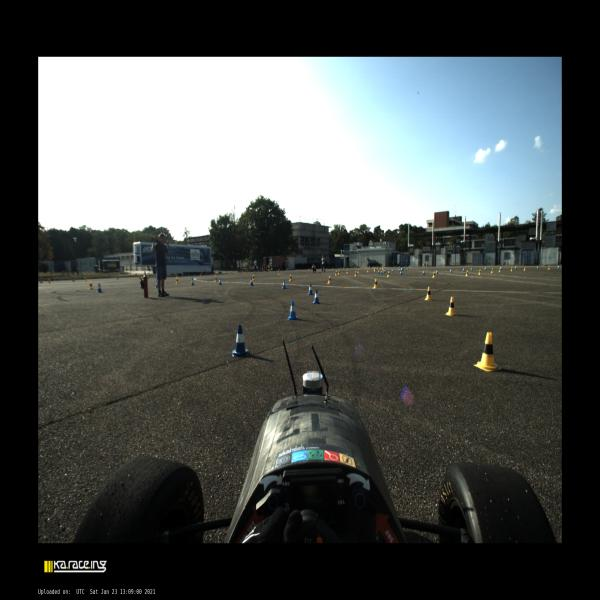blue_cone: (232, 324, 248, 357), (287, 299, 299, 320), (312, 289, 321, 304), (308, 283, 314, 295), (282, 279, 287, 289), (97, 284, 103, 292), (250, 278, 254, 286), (191, 278, 195, 286), (218, 278, 222, 285), (155, 279, 158, 288), (422, 269, 425, 275), (380, 270, 383, 274), (462, 268, 465, 272), (470, 267, 473, 271), (484, 266, 487, 270), (400, 270, 402, 275), (450, 268, 452, 273), (378, 269, 380, 274), (401, 266, 403, 271), (436, 269, 438, 274), (558, 264, 560, 269), (392, 268, 394, 272), (40, 279, 42, 283), (73, 278, 75, 282), (117, 276, 119, 280), (286, 268, 288, 272), (384, 269, 386, 273), (398, 268, 400, 272), (407, 266, 409, 270), (514, 266, 516, 270), (536, 265, 538, 269), (226, 271, 228, 274), (326, 267, 328, 270), (299, 268, 301, 271), (184, 274, 186, 276), (205, 272, 206, 276), (240, 270, 241, 274), (340, 267, 342, 269), (394, 266, 396, 268), (501, 266, 502, 270), (276, 269, 277, 272), (404, 266, 405, 269), (354, 267, 355, 269), (387, 266, 388, 268)
large_orange_cone: (278, 268, 280, 272), (268, 268, 269, 272)
yellow_cone: (474, 332, 502, 372), (445, 297, 457, 316), (425, 286, 432, 300), (373, 279, 378, 288), (89, 282, 94, 290), (327, 276, 331, 284), (288, 274, 292, 282), (176, 277, 180, 284), (432, 271, 435, 278), (252, 274, 255, 281), (478, 269, 481, 275), (387, 272, 390, 278), (214, 276, 217, 282), (214, 273, 217, 279), (354, 271, 357, 276), (346, 269, 349, 274), (466, 270, 468, 276), (510, 266, 512, 272), (335, 270, 337, 276), (491, 268, 493, 273), (524, 266, 526, 271), (338, 270, 340, 275), (84, 277, 86, 282), (499, 268, 501, 272), (548, 266, 550, 270), (358, 269, 360, 273), (382, 266, 384, 270), (367, 269, 369, 272), (176, 274, 178, 277), (365, 266, 367, 269), (49, 279, 50, 284), (374, 267, 375, 272), (245, 270, 246, 274), (297, 268, 298, 272), (320, 268, 322, 270), (356, 266, 357, 270), (373, 266, 374, 270), (399, 266, 400, 270), (200, 273, 201, 276), (258, 270, 259, 273), (377, 266, 378, 269), (380, 266, 381, 269), (231, 272, 232, 274), (270, 270, 271, 272), (308, 268, 309, 270), (343, 267, 344, 269), (332, 267, 332, 270)
